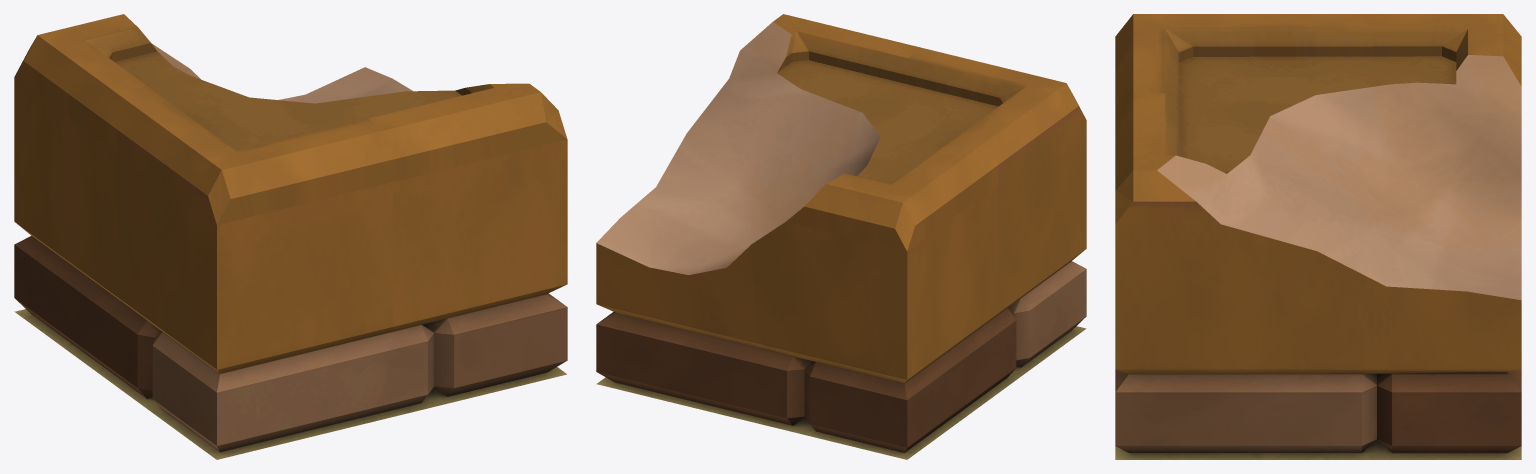
File: à-Mur.FBX
The picture shows the model from 3 angles, left to right: view 1: azimuth 30°, elevation 25°; view 2: azimuth 150°, elevation 25°; view 3: azimuth 270°, elevation 25°; orthographic projection. The views are drawn at different scales.
Parts seen in each view (by area): view 1: à-Mur; view 2: à-Mur; view 3: à-Mur.
Boxes of the visible parts, left/top/right/bottom form: à-Mur: left=14, top=14, right=567, bottom=459; à-Mur: left=596, top=14, right=1086, bottom=459; à-Mur: left=1115, top=14, right=1521, bottom=459.
Size of the model in its own units: 2 by 1.53 by 2.
